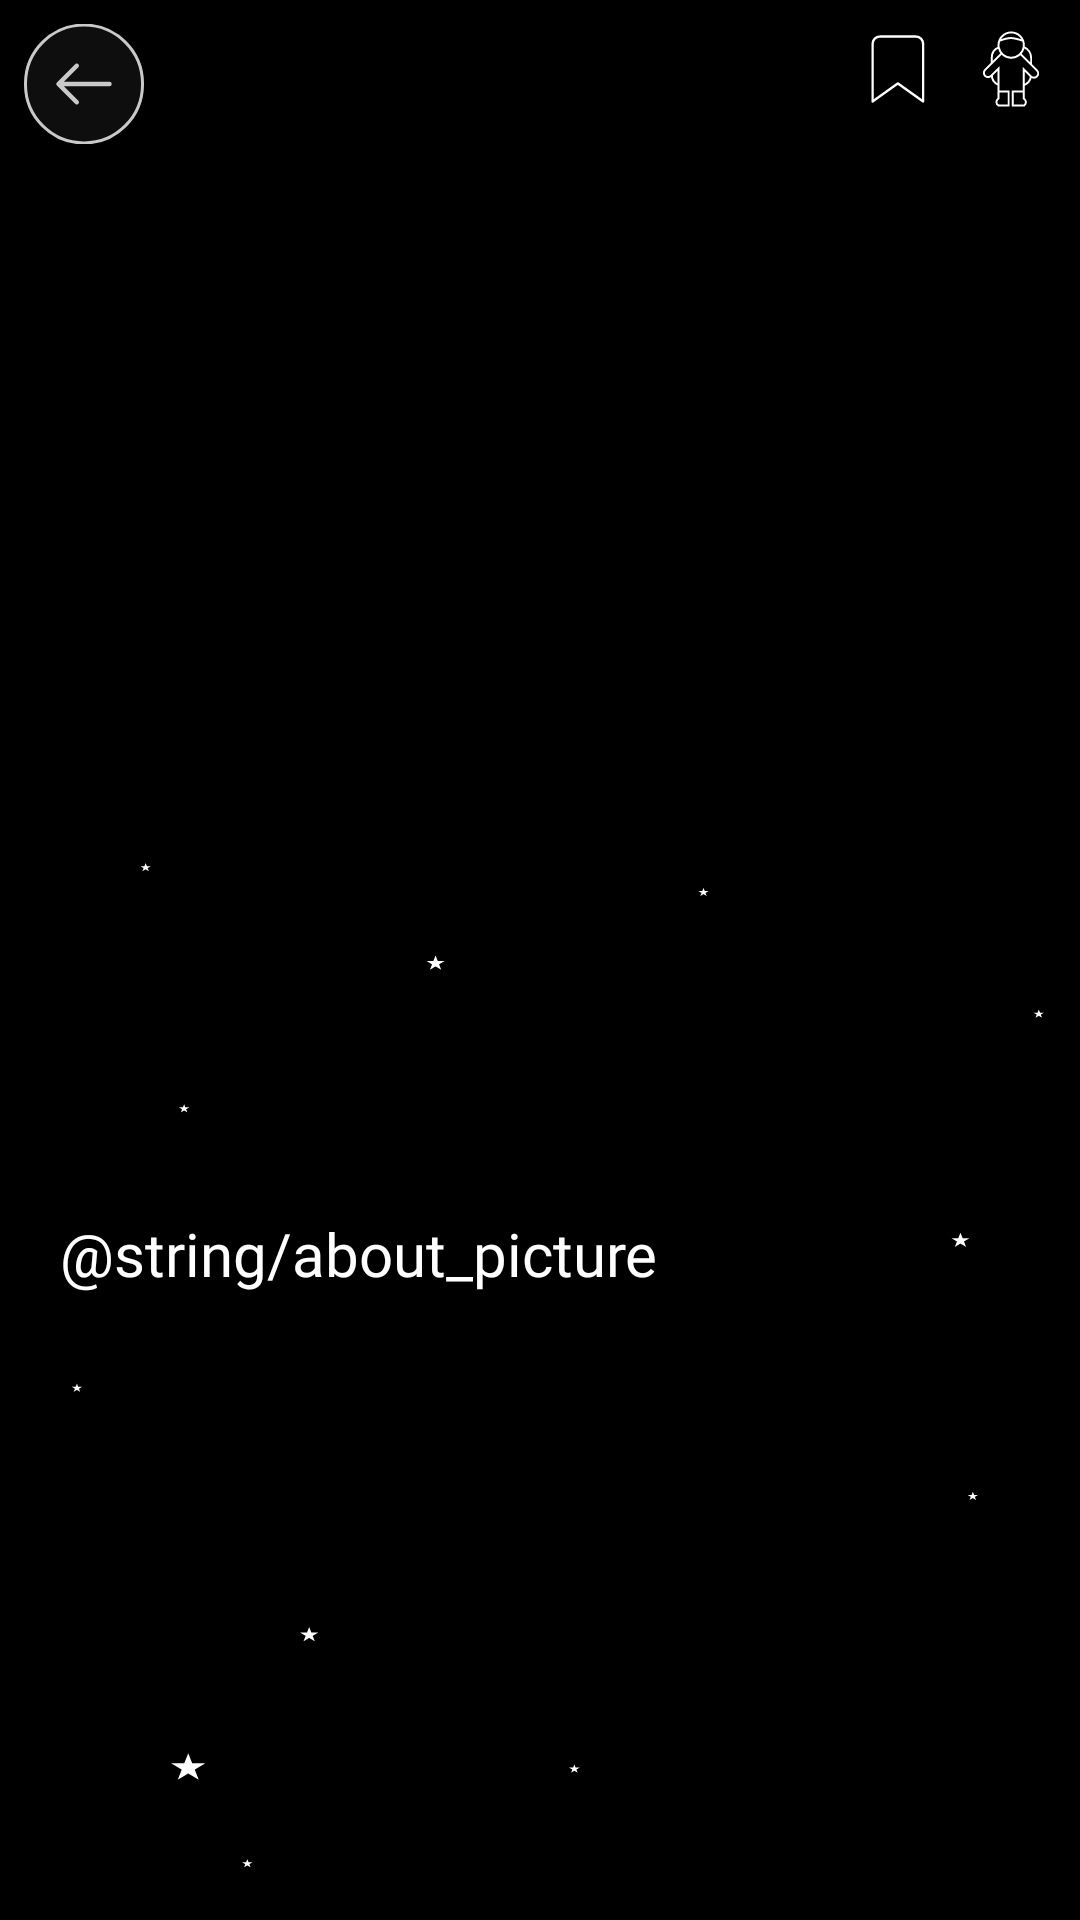

Named icons in this screenshot (1080×1920) and their bounding boxes, bbox(x1, y1, x2, y2):
astronaut: bbox(983, 31, 1039, 107)
to home: bbox(24, 24, 144, 144)
